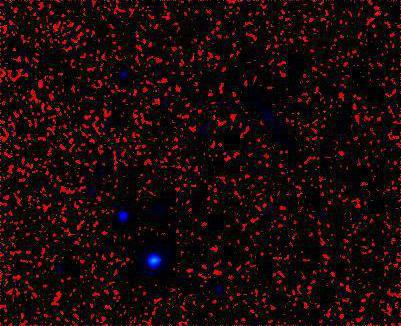star: (253, 102, 283, 132)
